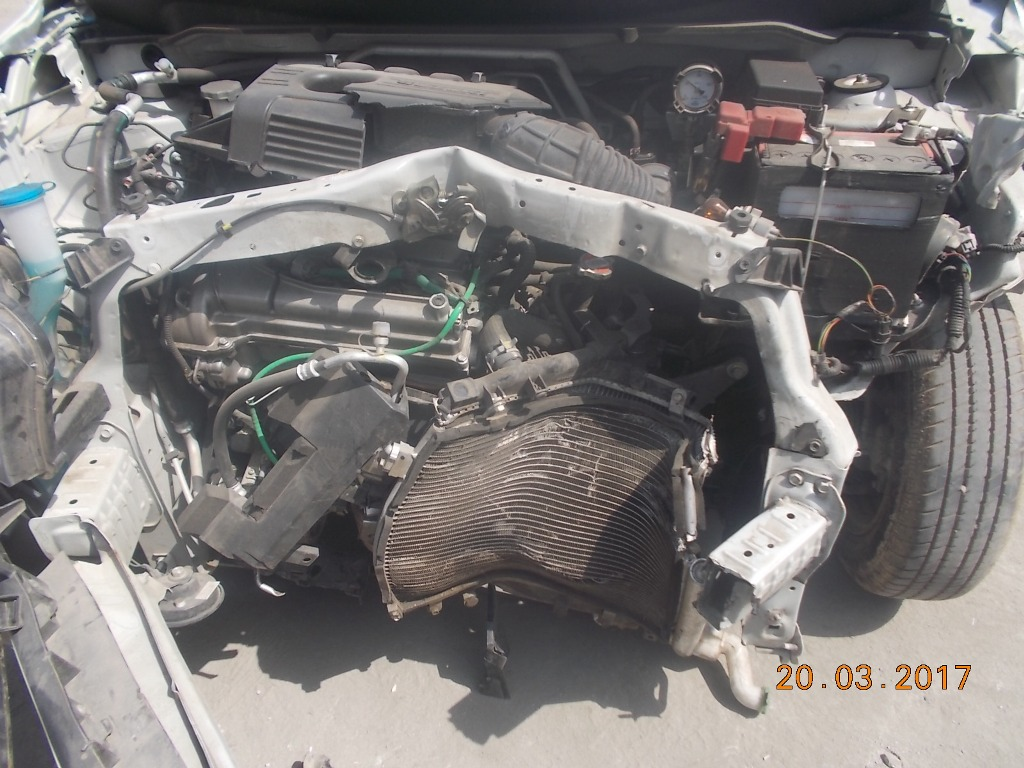Large_tear_or_damage: (27, 54, 1017, 620)
